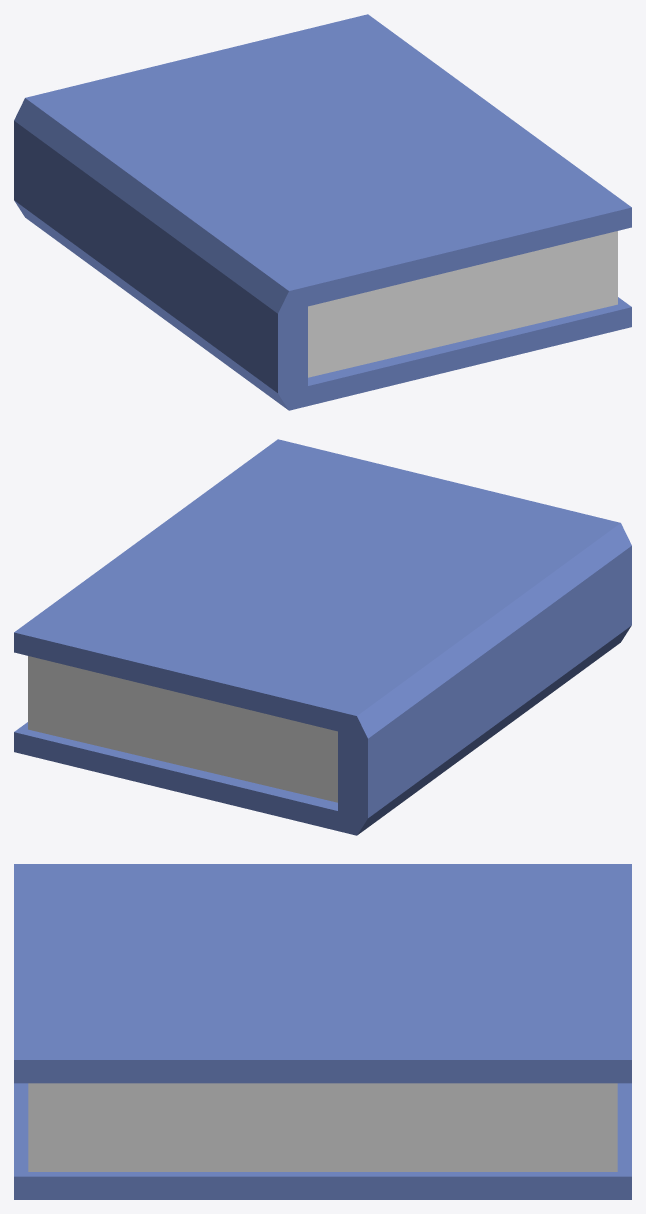
File: Big Book.fbx
The picture shows the model from 3 angles, top to bottom: view 1: azimuth 30°, elevation 25°; view 2: azimuth 150°, elevation 25°; view 3: azimuth 270°, elevation 25°; orthographic projection. The views are drawn at different scales.
Visible parts, largest first — view 1: Big Book; view 2: Big Book; view 3: Big Book.
Part boxes in pixels (box(x1,y1,x2,y2)): Big Book: box(14, 14, 631, 410); Big Book: box(14, 439, 631, 835); Big Book: box(14, 864, 631, 1199).
Size of the model in its own units: 20.81 by 6.72 by 26.88.
